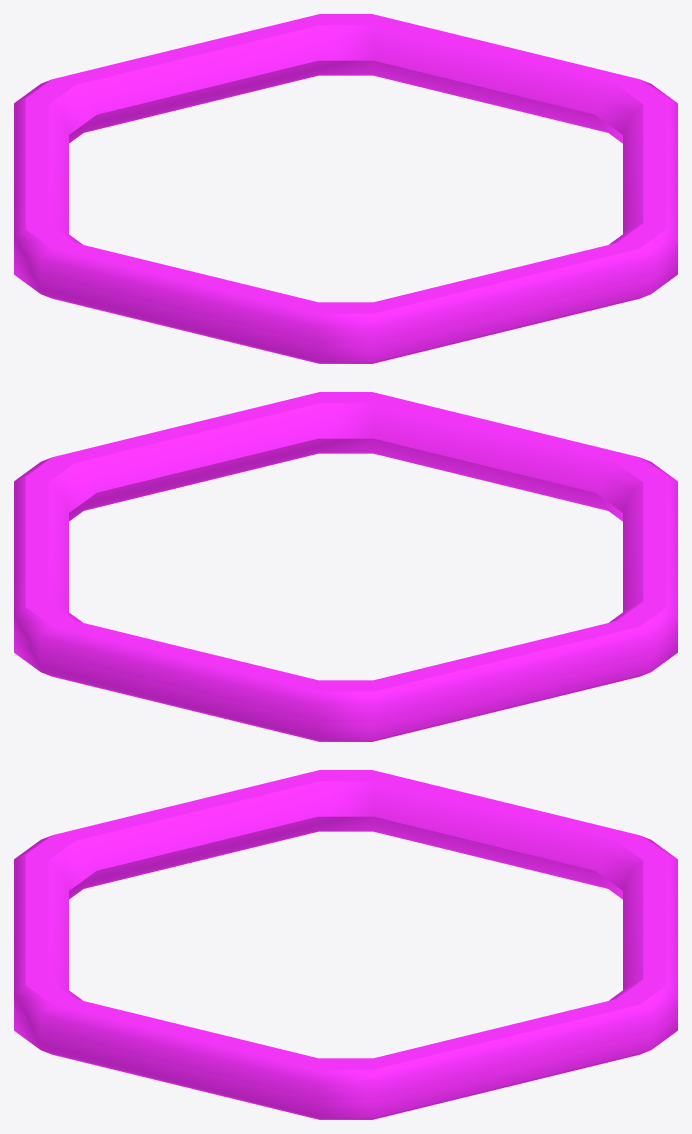
File: Hexagon1.fbx
3 views of the same model, one above another, from view 1: azimuth 30°, elevation 25°; view 2: azimuth 150°, elevation 25°; view 3: azimuth 270°, elevation 25° (orthographic).
Parts seen in each view (by area): view 1: Hex1; view 2: Hex1; view 3: Hex1.
Boxes of the visible parts, x1,y1,x2,y2 form: Hex1: (14,14,677,363); Hex1: (14,392,677,741); Hex1: (14,770,677,1119).
Bounding box in the file's own units: 4.09 × 0.3072 × 3.69.
